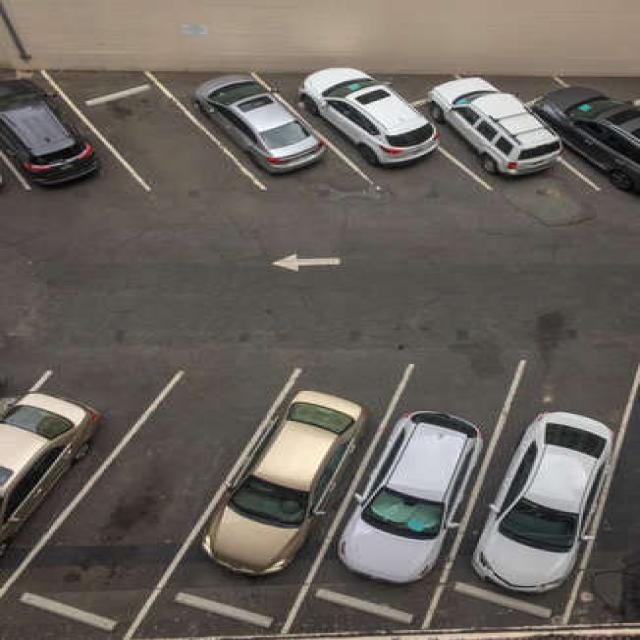libre: (6, 380, 288, 639), (38, 62, 281, 208)
ocupado: (148, 377, 401, 639), (285, 391, 515, 630), (419, 388, 638, 639), (139, 63, 391, 208), (0, 378, 163, 602), (255, 64, 503, 202), (369, 64, 610, 201), (2, 66, 159, 204), (483, 67, 638, 197)
